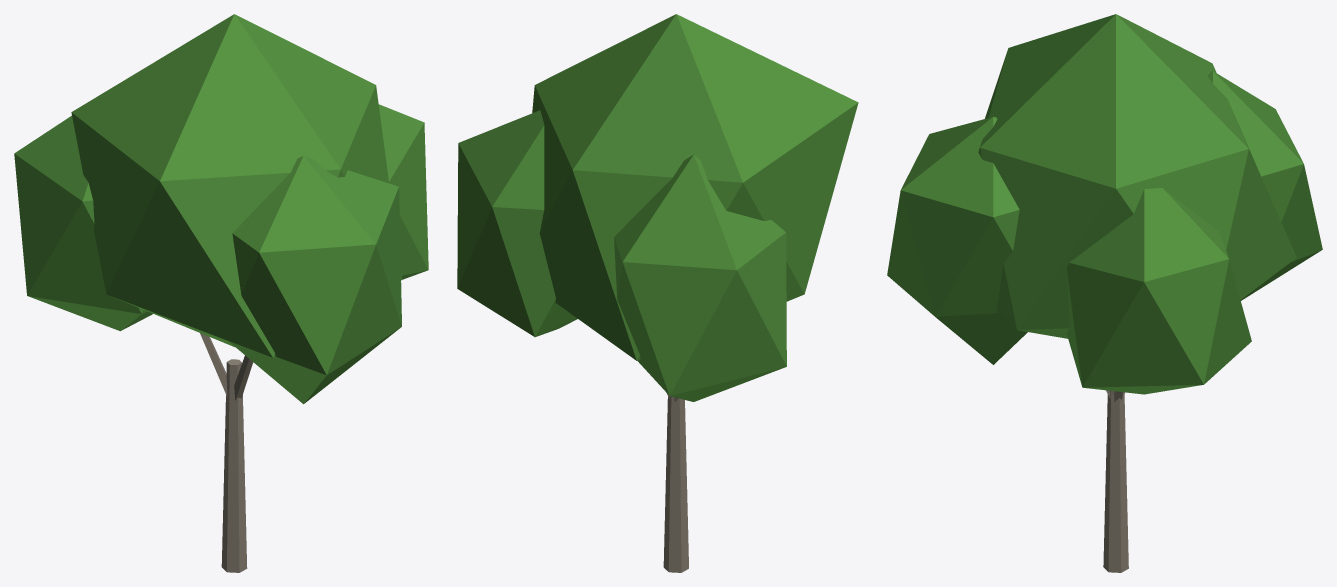
The model's file is hetre.glb.
The picture shows the model from 3 angles, left to right: view 1: azimuth 30°, elevation 25°; view 2: azimuth 150°, elevation 25°; view 3: azimuth 270°, elevation 25°; orthographic projection.
Parts seen in each view (by area): view 1: hetre; view 2: hetre; view 3: hetre.
Part boxes in pixels (x1=…): hetre: x1=14, y1=14, x2=428, y2=572; hetre: x1=457, y1=14, x2=858, y2=572; hetre: x1=887, y1=14, x2=1322, y2=572.
Bounding box in the file's own units: 11.45 × 16.69 × 11.9.
1 material, 1 textured.
